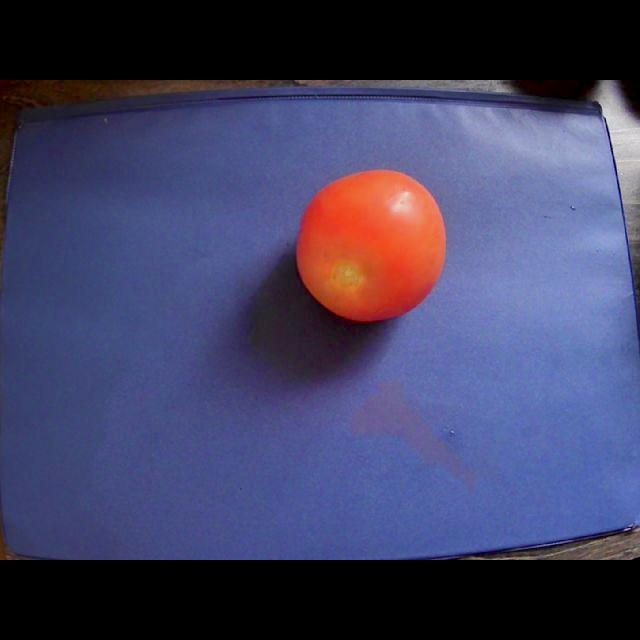tomate: (296, 170, 445, 321)
